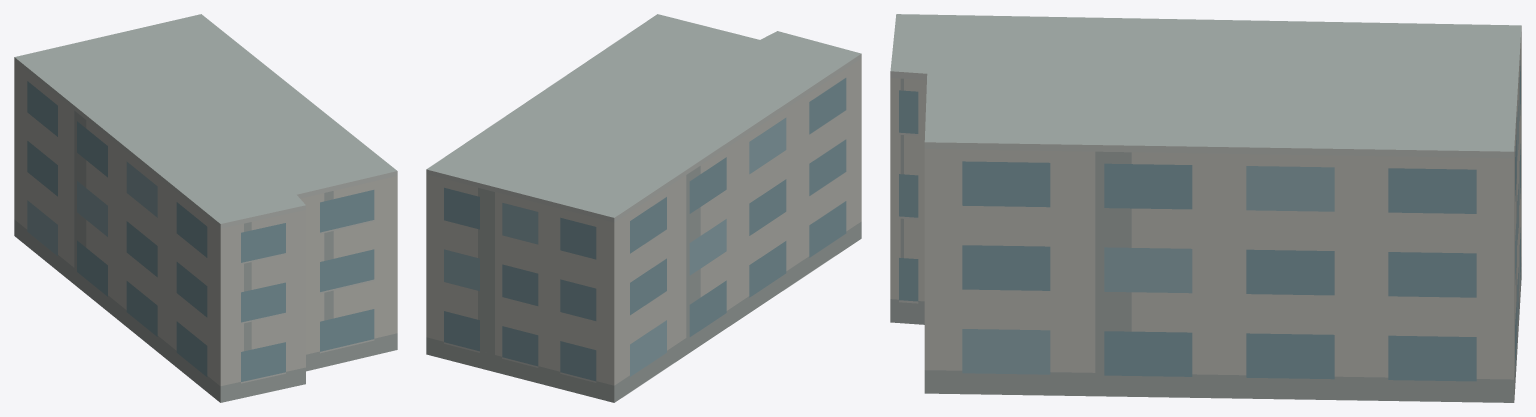
File: survey-upis-32585653.glb
3 renders of one model, left to right at view 1: azimuth 30°, elevation 25°; view 2: azimuth 150°, elevation 25°; view 3: azimuth 270°, elevation 25°, orthographic. The views are drawn at different scales.
Visible parts, largest first — view 1: survey-upis-32585653.tmp; view 2: survey-upis-32585653.tmp; view 3: survey-upis-32585653.tmp.
Boxes of the visible parts, x1,y1,x2,y2 form: survey-upis-32585653.tmp: [14, 14, 397, 402]; survey-upis-32585653.tmp: [426, 14, 861, 402]; survey-upis-32585653.tmp: [890, 14, 1521, 402].
Bounding box in the file's own units: 10.76 × 9.15 × 20.84.
